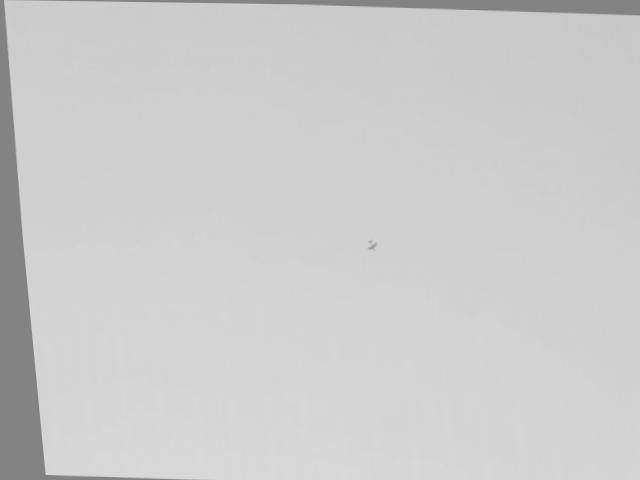hedef: (355, 235, 379, 255)
